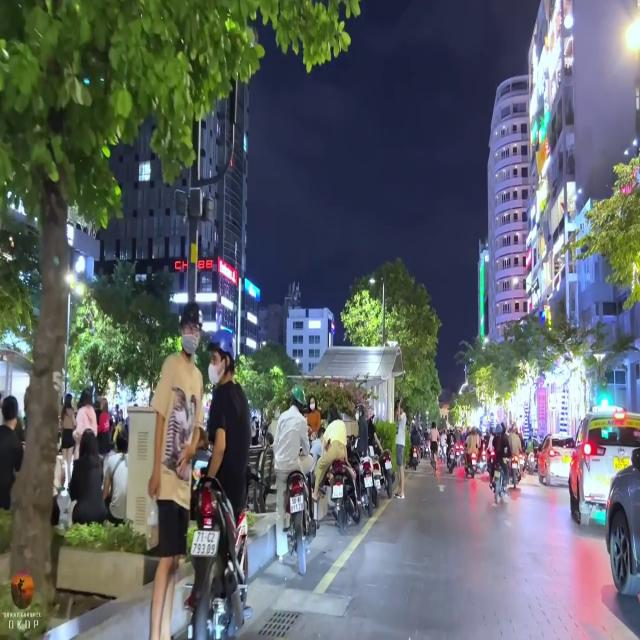bien_trang: (190, 529, 219, 557), (289, 496, 307, 513)
